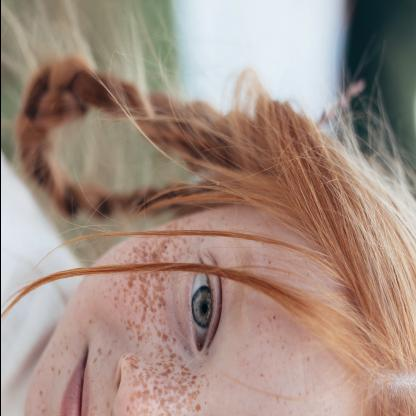Eye: (173, 260, 225, 356)
Mouth: (56, 344, 99, 415)
Nose: (103, 344, 196, 415)
